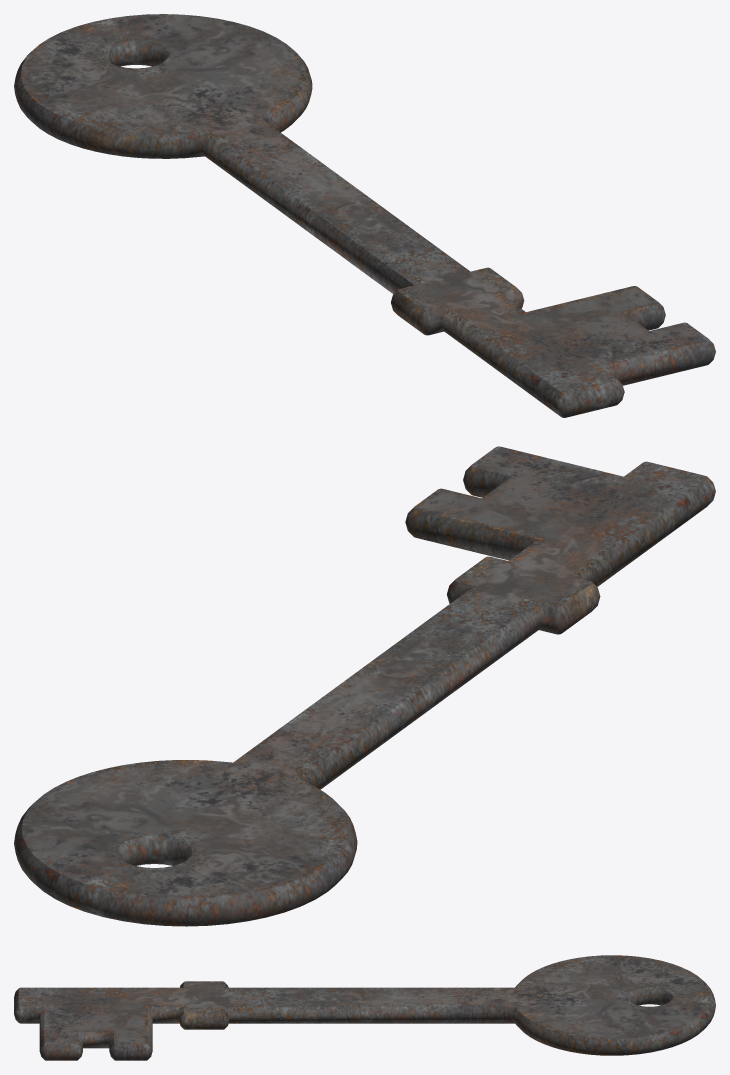
File: Key.glb
3 views of the same model, one above another, from view 1: azimuth 30°, elevation 25°; view 2: azimuth 150°, elevation 25°; view 3: azimuth 270°, elevation 25° (orthographic). The views are drawn at different scales.
Parts seen in each view (by area): view 1: Curve; view 2: Curve; view 3: Curve.
Part boxes in pixels (x1,y1,x2,y2): Curve: (14,14,715,417); Curve: (14,446,715,926); Curve: (14,955,715,1060).
Size of the model in its own units: 0.0634 by 0.00543 by 0.2032.
Materials: 1 (1 with a texture image).
